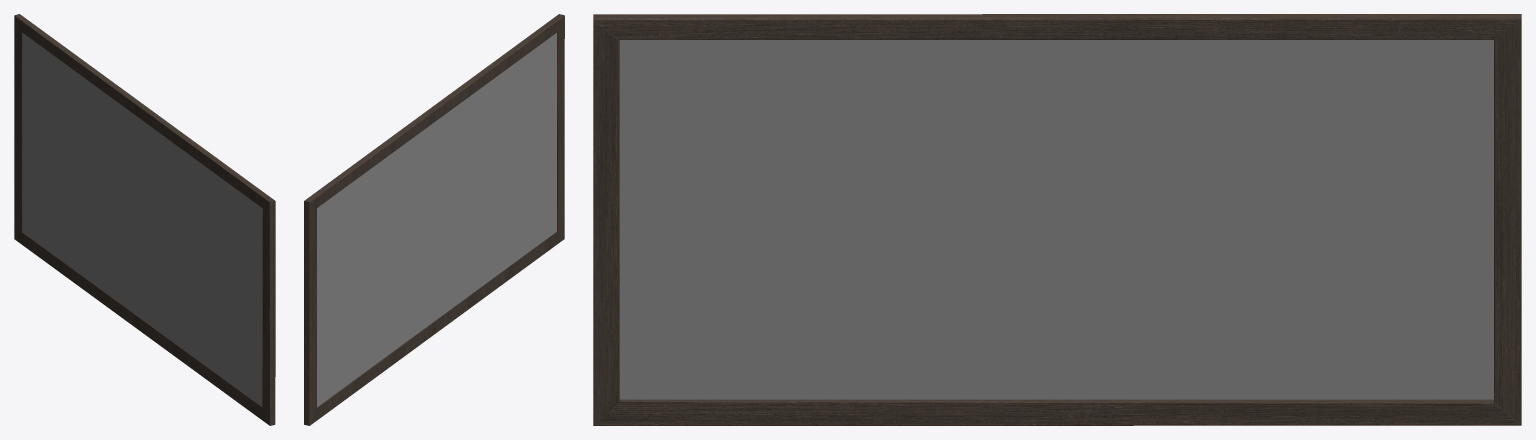
File: Mirror.FBX
The picture shows the model from 3 angles, left to right: view 1: azimuth 30°, elevation 25°; view 2: azimuth 150°, elevation 25°; view 3: azimuth 270°, elevation 25°; orthographic projection. The views are drawn at different scales.
Parts seen in each view (by area): view 1: Mirror; view 2: Mirror; view 3: Mirror.
Boxes of the visible parts, x1=… form: Mirror: x1=14, y1=14, x2=275, y2=425; Mirror: x1=304, y1=14, x2=564, y2=425; Mirror: x1=593, y1=14, x2=1521, y2=425.
Size of the model in its own units: 23.67 by 1652 by 799.
